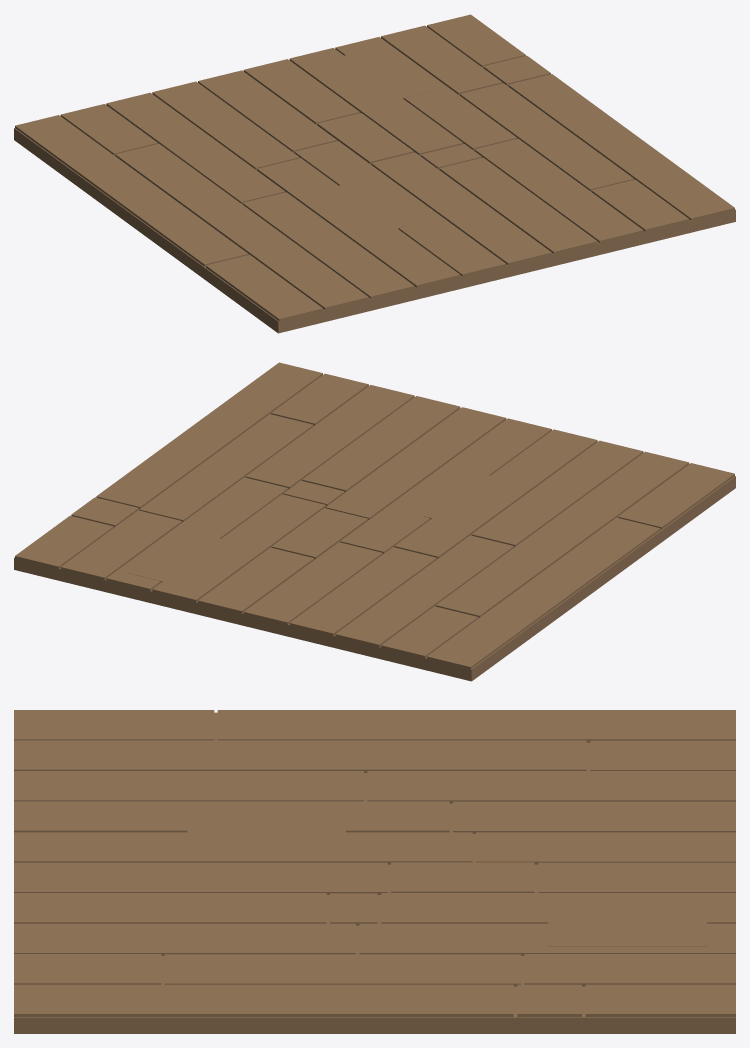
The model's file is FloorTile_Wood.fbx.
3 views of the same model, one above another, from view 1: azimuth 30°, elevation 25°; view 2: azimuth 150°, elevation 25°; view 3: azimuth 270°, elevation 25° (orthographic). The views are drawn at different scales.
Visible parts, largest first — view 1: FloorTile_Wood; view 2: FloorTile_Wood; view 3: FloorTile_Wood.
Boxes of the visible parts, bbox=[...] form: FloorTile_Wood: bbox=[14, 14, 735, 333]; FloorTile_Wood: bbox=[14, 362, 735, 681]; FloorTile_Wood: bbox=[14, 710, 735, 1033].
Bounding box in the file's own units: 500 × 14.98 × 500.
